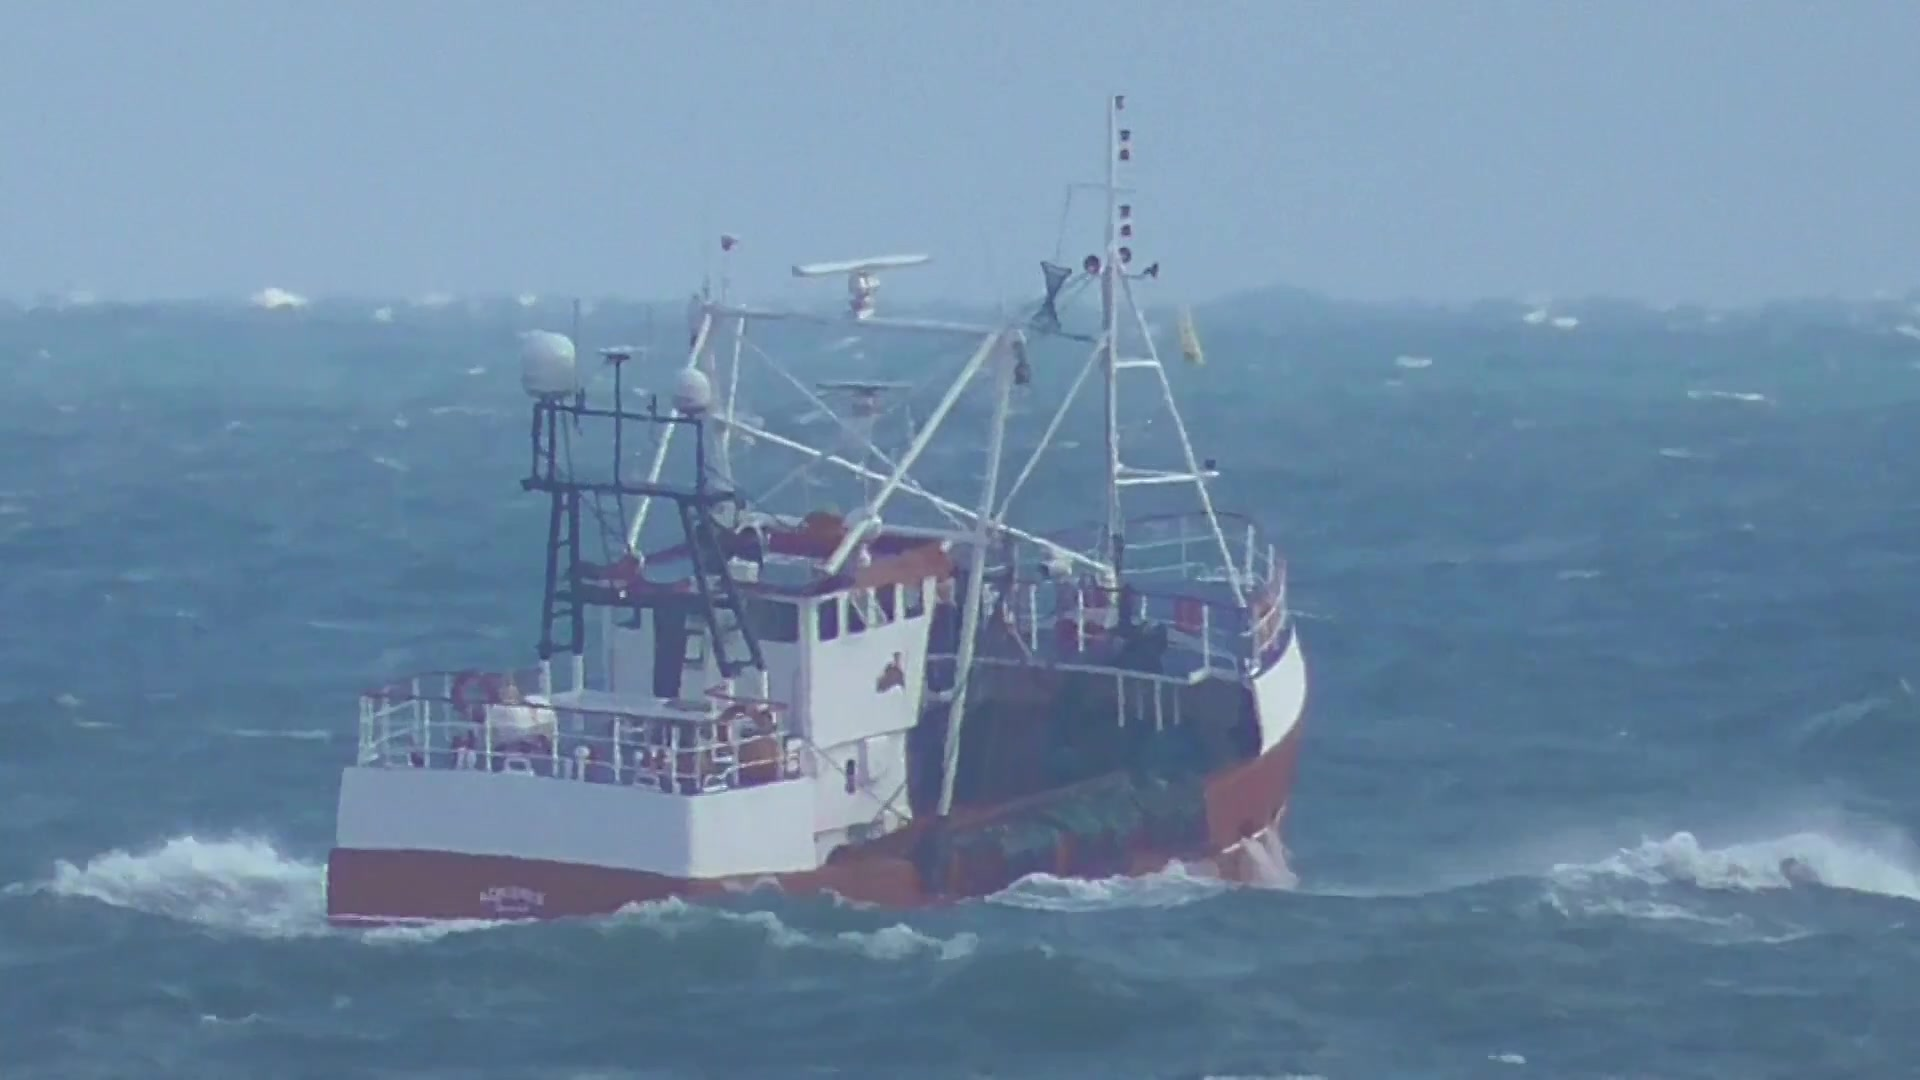CommonShip: (319, 76, 1308, 936)
